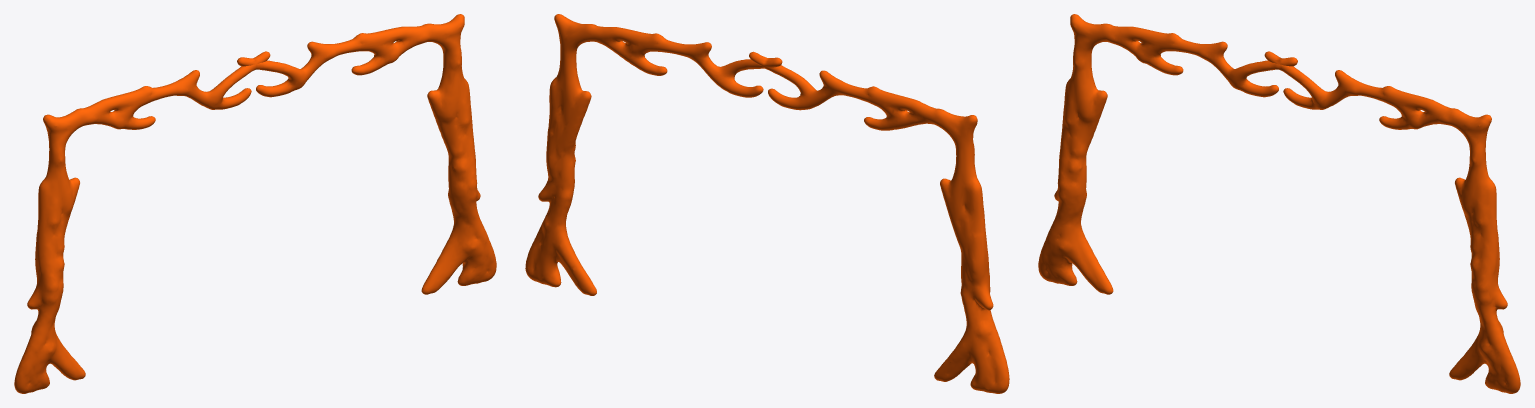
The model's file is Trickster-Erratic-doorway-SHERWOOD-v2.glb.
3 views of the same model, side by side, from view 1: azimuth 30°, elevation 25°; view 2: azimuth 150°, elevation 25°; view 3: azimuth 330°, elevation 25° (orthographic).
Visible parts, largest first — view 1: Volume Line.003; view 2: Volume Line.003; view 3: Volume Line.003.
Part boxes in pixels (x1,y1,x2,y2): Volume Line.003: [14, 14, 496, 393]; Volume Line.003: [525, 14, 1009, 393]; Volume Line.003: [1038, 14, 1520, 393].
Size of the model in its own units: 1.81 by 1.02 by 0.0955.
